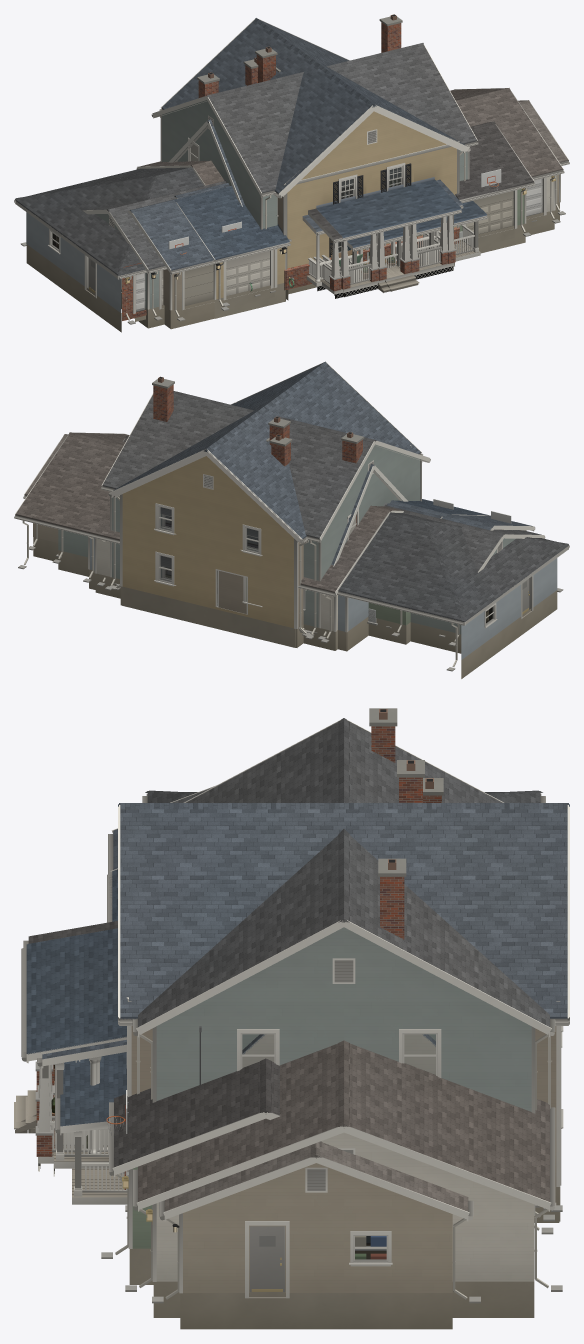
The model's file is house.prologue.glb.
3 renders of one model, top to bottom at view 1: azimuth 30°, elevation 25°; view 2: azimuth 150°, elevation 25°; view 3: azimuth 270°, elevation 25°, orthographic. The views are drawn at different scales.
Visible parts, largest first — view 1: house.lotR530:lod0, house.lotR8:lod0, house.lotR66:lod0, house.hoop:lod0, house.lotRm21:lod0, house.lotR153:lod0, house.lotLm21:lod0, house.car:lod0, house.lotL66:lod0, house.lotL8:lod0, house.lotL37:lod0; view 2: house.lotR530:lod0, house.lotR8:lod0, house.hoop:lod0, house.lotR66:lod0, house.lotR153:lod0, house.car:lod0, house.lotL66:lod0, house.lotR37:lod0, house.lotL8:lod0, house.lotRm21:lod0, house.lotL37:lod0; view 3: house.lotR8:lod0, house.lotR66:lod0, house.car:lod0, house.lotR153:lod0, house.lotRm21:lod0, house.lotR530:lod0, house.lotLm21:lod0, house.lotL8:lod0, house.lotL37:lod0, house.lotL66:lod0, house.hoop:lod0.
Boxes of the visible parts, x1,y1,x2,y2 form: house.lotR530:lod0: (160, 105, 469, 318); house.lotR8:lod0: (82, 43, 478, 328); house.lotR66:lod0: (127, 18, 470, 329); house.hoop:lod0: (14, 167, 203, 332); house.lotRm21:lod0: (243, 57, 535, 300); house.lotR153:lod0: (136, 88, 564, 296); house.lotLm21:lod0: (347, 201, 487, 268); house.car:lod0: (197, 72, 569, 281); house.lotL66:lod0: (255, 46, 438, 291); house.lotL8:lod0: (174, 14, 463, 306); house.lotL37:lod0: (168, 67, 536, 221); house.lotR530:lod0: (109, 445, 490, 647); house.lotR8:lod0: (101, 391, 545, 653); house.hoop:lod0: (83, 511, 569, 678); house.lotR66:lod0: (108, 361, 535, 647); house.lotR153:lod0: (14, 432, 403, 650); house.car:lod0: (23, 432, 364, 560); house.lotL66:lod0: (52, 416, 311, 633); house.lotR37:lod0: (300, 499, 453, 644); house.lotL8:lod0: (152, 376, 442, 632); house.lotRm21:lod0: (113, 434, 309, 635); house.lotL37:lod0: (55, 438, 408, 633); house.lotR8:lod0: (125, 718, 562, 1211); house.lotR66:lod0: (15, 803, 568, 1222); house.car:lod0: (79, 708, 480, 1329); house.lotR153:lod0: (125, 1040, 562, 1317); house.lotRm21:lod0: (16, 778, 443, 1284); house.lotR530:lod0: (14, 804, 569, 1221); house.lotLm21:lod0: (55, 1052, 554, 1221); house.lotL8:lod0: (29, 858, 406, 1176); house.lotL37:lod0: (242, 1034, 435, 1074); house.lotL66:lod0: (74, 760, 539, 1207); house.hoop:lod0: (142, 790, 553, 1234).
Size of what is drawn, in the model's own units: 25.76 by 10.74 by 14.29.
Materials: 10 (6 with a texture image).
